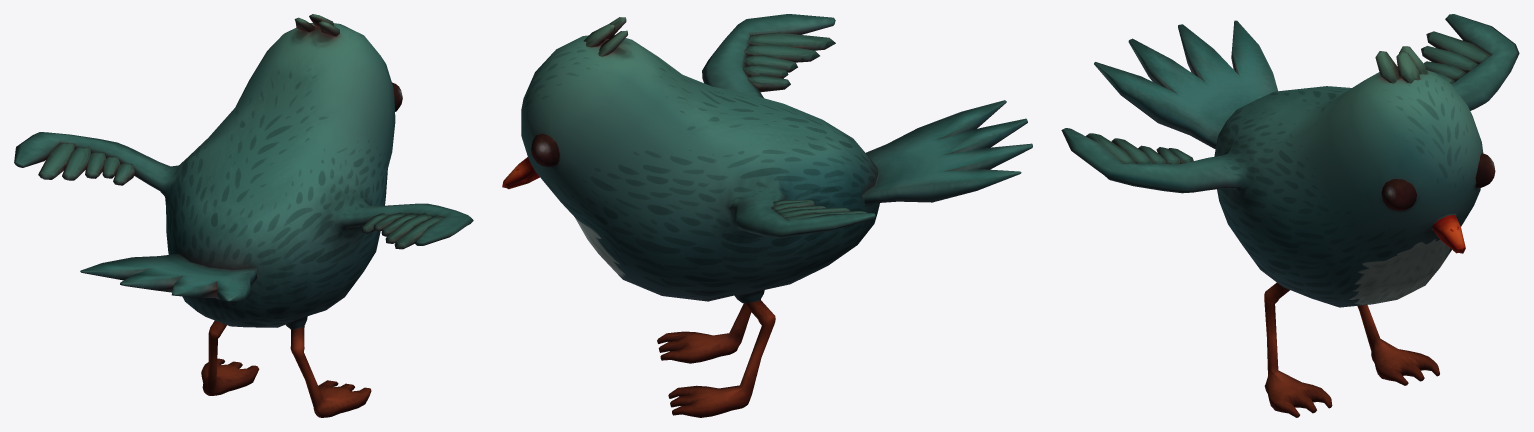
Rendered from SuarezM_PII_Pajaro_Texturizado_v01.fbx.
3 renders of one model, left to right at view 1: azimuth 30°, elevation 25°; view 2: azimuth 150°, elevation 25°; view 3: azimuth 270°, elevation 25°, orthographic. The views are drawn at different scales.
Parts seen in each view (by area): view 1: Pajaro; view 2: Pajaro; view 3: Pajaro.
Part boxes in pixels (<box>): Pajaro: <box>14,14,473,417</box>; Pajaro: <box>502,14,1032,417</box>; Pajaro: <box>1061,14,1519,417</box>.
Bounding box in the file's own units: 53.42 × 44.13 × 50.43.
Materials: 1 (1 with a texture image).
